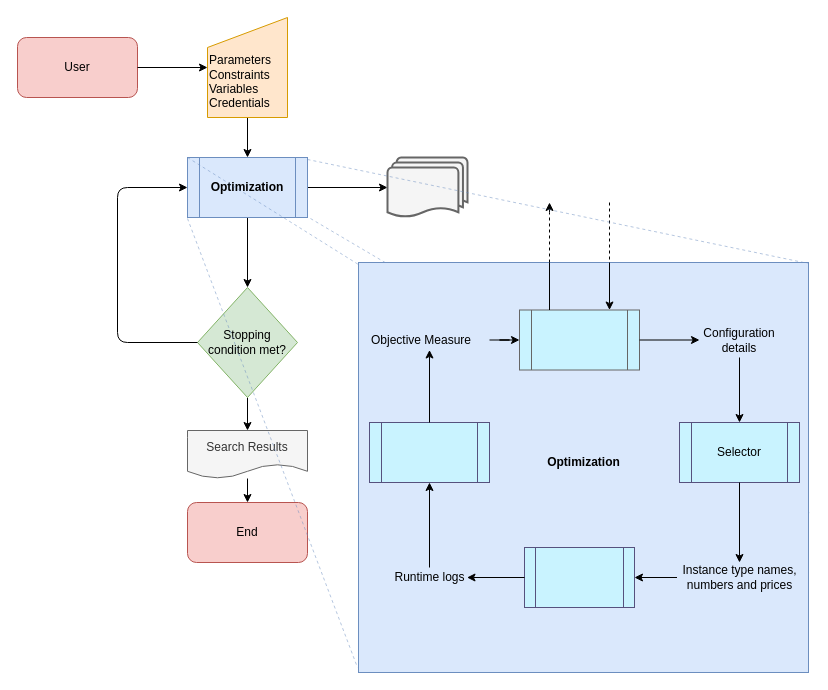
Some shapes in this 828 by 690 pixel diagram are drawn without their labels. Each missing label, with the centre of its shape:
Deployer: (579,577)
Interpreter: (429,452)
Job details: (427,187)
Searcher: (579,339)
